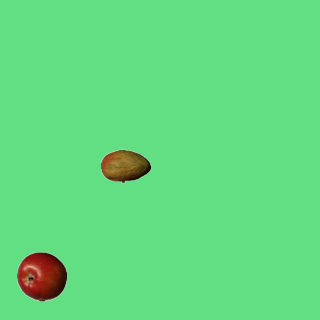Apple Braeburn: (16, 251, 66, 301)
Papaya: (100, 141, 150, 191)
